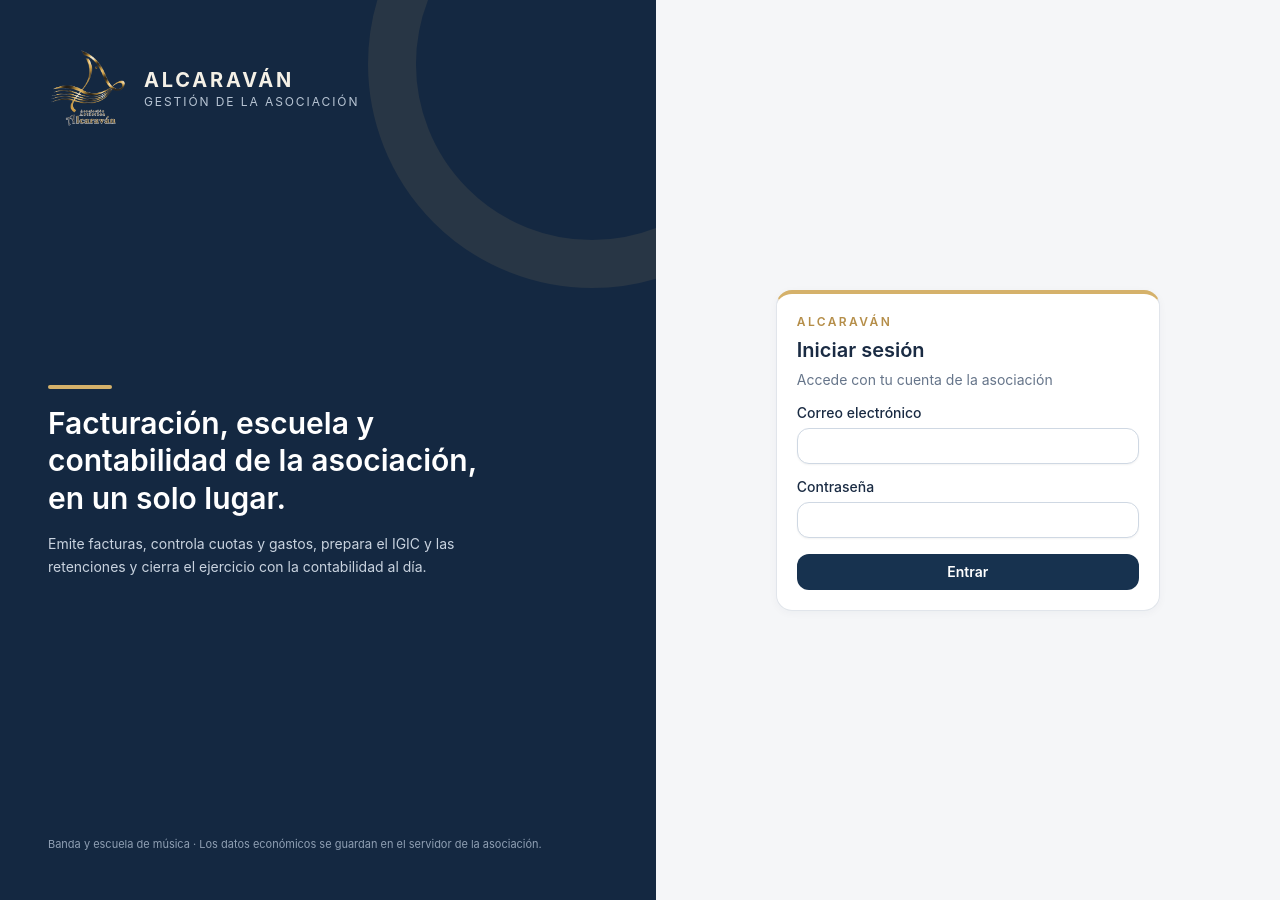
LoginPage › validates the form before calling the API
Step 1. Type "not-an-email" into the field labelled "Correo electrónico" → (968, 446), box top-left (797, 428), bottom-right (1139, 464)
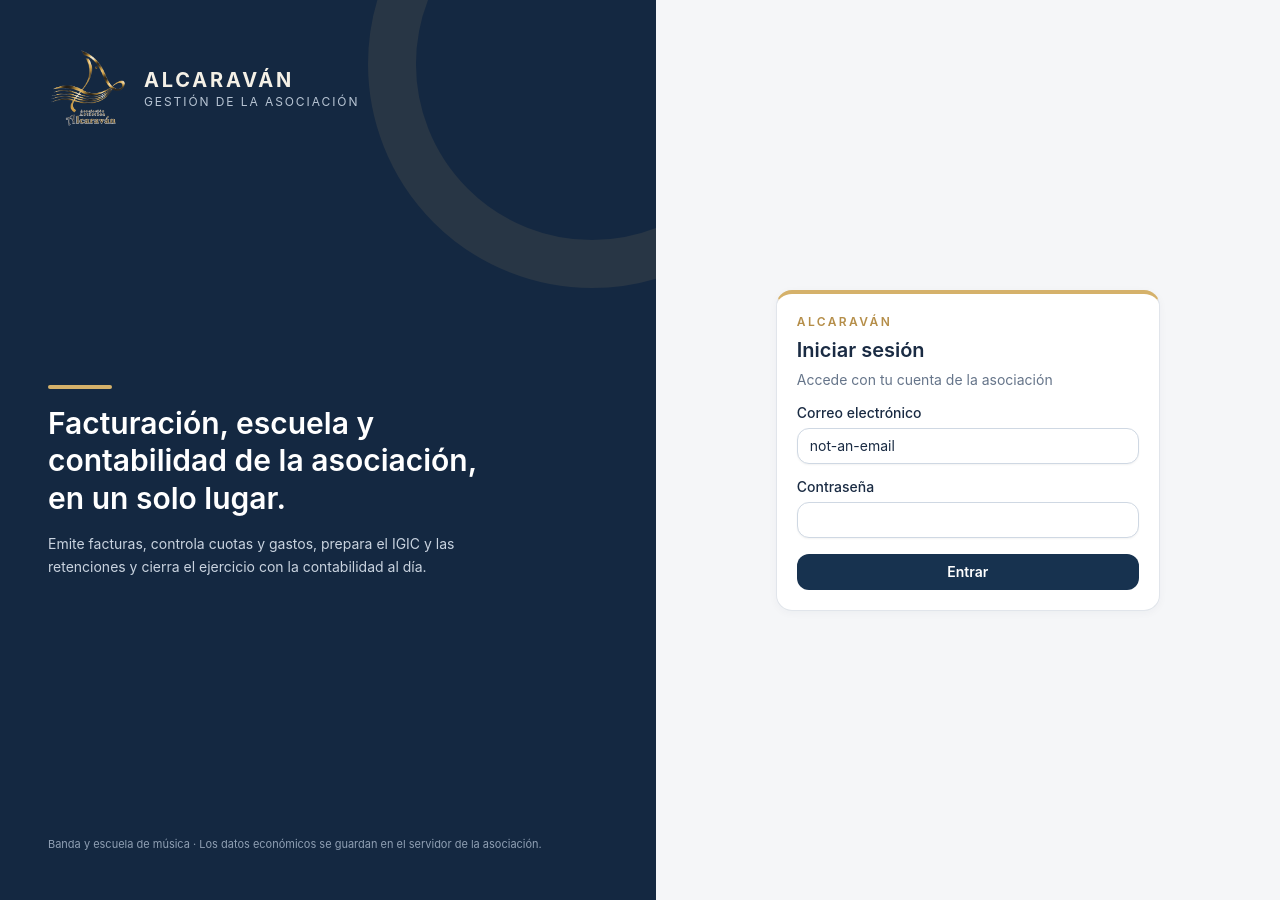
Step 2. Click the button "Entrar" → (968, 572), box top-left (797, 554), bottom-right (1139, 590)
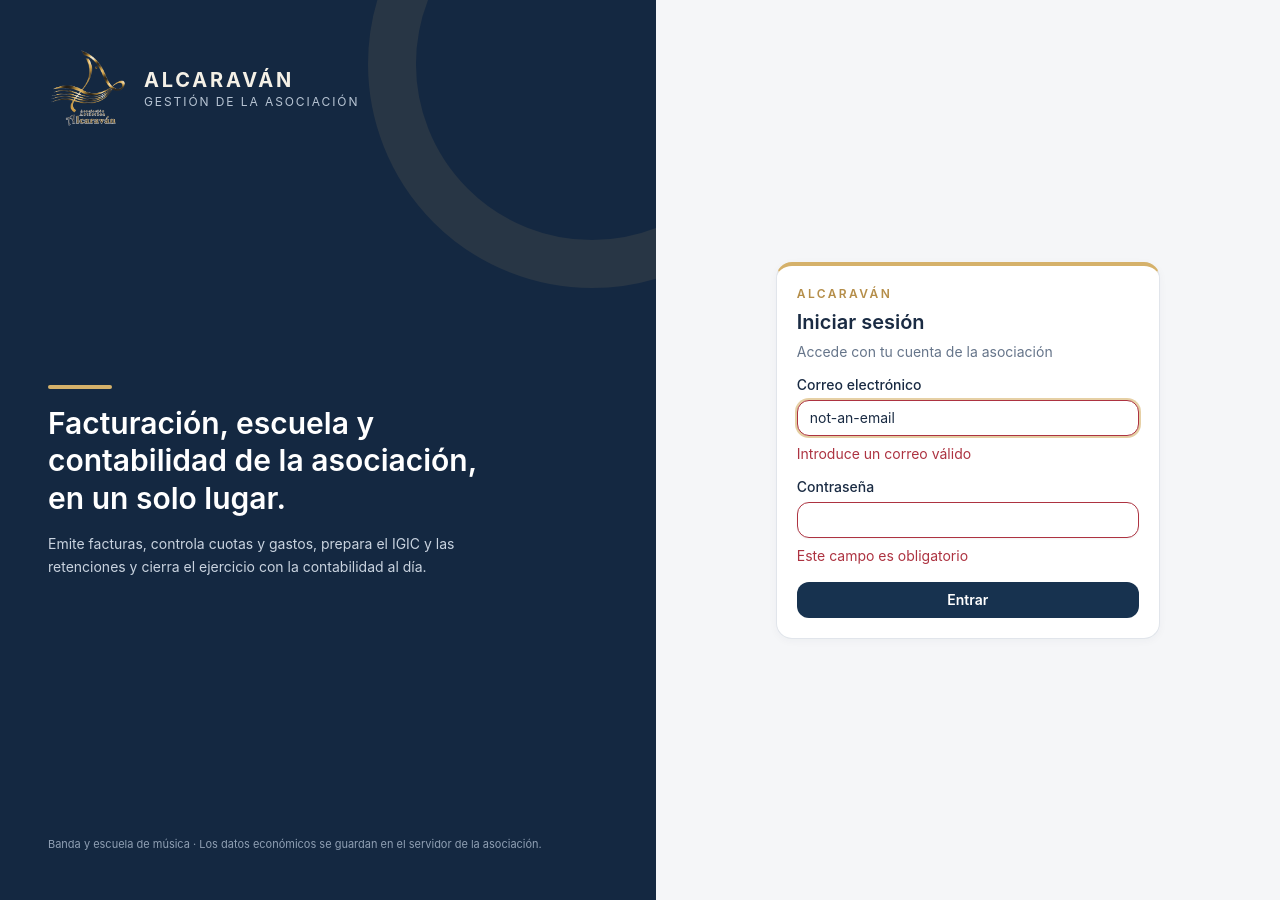
expect the text "Introduce un correo válido" is shown: met, box top-left (797, 444), bottom-right (971, 462)
expect the text "Este campo es obligatorio" is shown: met, box top-left (797, 546), bottom-right (968, 564)
